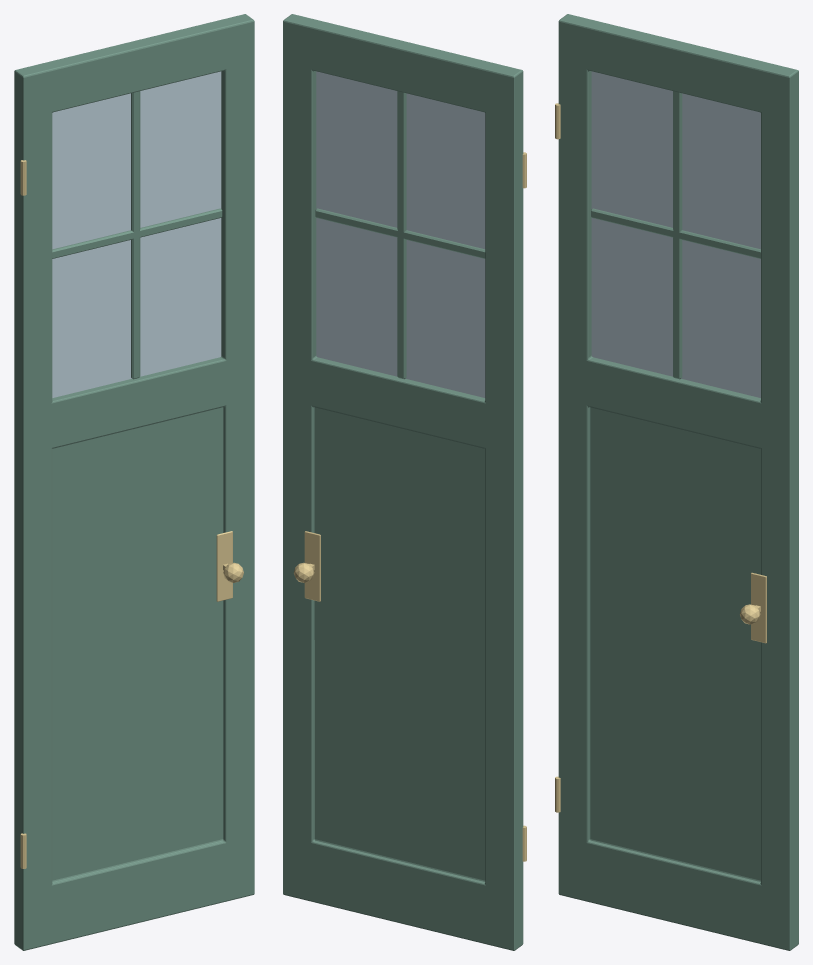
Rendered from door_leaf_entry.glb.
3 renders of one model, left to right at view 1: azimuth 30°, elevation 25°; view 2: azimuth 150°, elevation 25°; view 3: azimuth 330°, elevation 25°, orthographic.
Parts seen in each view (by area): view 1: door_leaf_entry_door, door_leaf_entry_glass, door_leaf_entry_brass; view 2: door_leaf_entry_door, door_leaf_entry_glass, door_leaf_entry_brass; view 3: door_leaf_entry_door, door_leaf_entry_glass, door_leaf_entry_brass.
Boxes of the visible parts, bbox=[...] form: door_leaf_entry_door: bbox=[14, 14, 254, 950]; door_leaf_entry_glass: bbox=[52, 71, 221, 397]; door_leaf_entry_brass: bbox=[20, 160, 243, 868]; door_leaf_entry_door: bbox=[283, 14, 523, 950]; door_leaf_entry_glass: bbox=[316, 71, 485, 397]; door_leaf_entry_brass: bbox=[293, 152, 526, 861]; door_leaf_entry_door: bbox=[558, 14, 798, 950]; door_leaf_entry_glass: bbox=[591, 71, 760, 397]; door_leaf_entry_brass: bbox=[555, 103, 766, 812].
Size of the model in its own units: 0.728 by 2.6 by 0.206.
